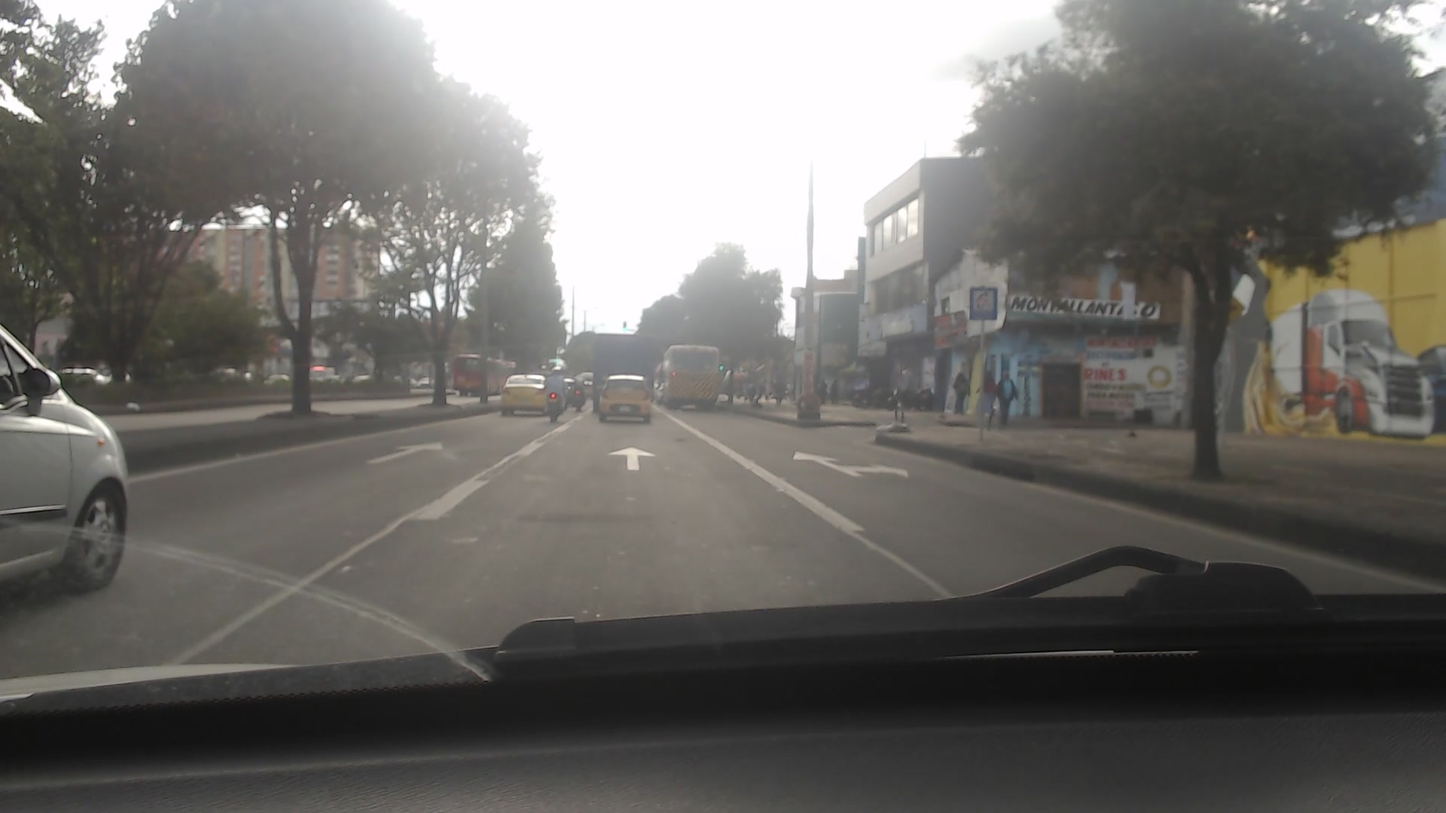bus: (659, 344, 722, 412)
car: (0, 326, 131, 595), (598, 374, 651, 422), (500, 374, 548, 416)
motorcycle: (542, 392, 564, 424), (569, 390, 590, 413)
person: (997, 367, 1020, 428), (951, 371, 971, 418), (980, 369, 998, 421), (544, 367, 566, 398)
truck: (594, 332, 654, 378)
